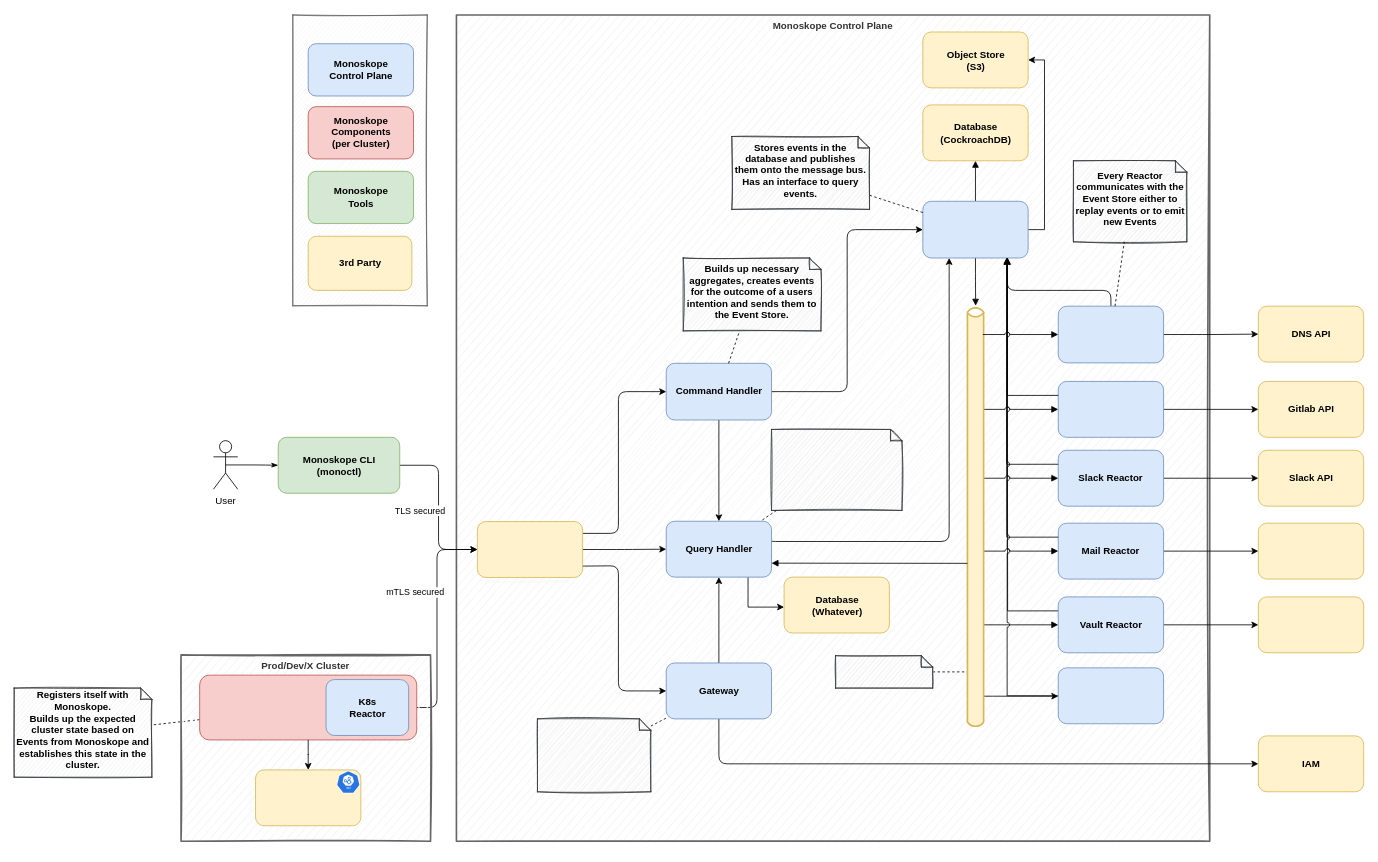
Image size: 1378x862. Some labels were removed from this diagram. The shapes that lost their labels are listed below. From the top down, each one's box as (x1, y1, x2, y2) in pixels, then its label:
(292, 14, 427, 306): Legend
(922, 200, 1028, 258): Event Store
(1057, 305, 1164, 363): DNS Reactor
(1057, 381, 1164, 437): Gitlab Reactor
(771, 429, 902, 510): Create projections and offers an interface to query them
(477, 521, 583, 577): API Gateway (Ambassador)
(1258, 522, 1364, 579): Mail Server
(1258, 596, 1364, 653): Hashicorp Vault Enterprise
(835, 655, 933, 688): Message Bus (RabbitMQ)
(199, 674, 417, 740): Monoskope Operator
(1057, 667, 1164, 724): Cluster Bootstrap Reactor
(537, 718, 651, 792): Handles authentication flow with IAM and is used as Ambassador Auth Service
(255, 769, 361, 826): K8s API
